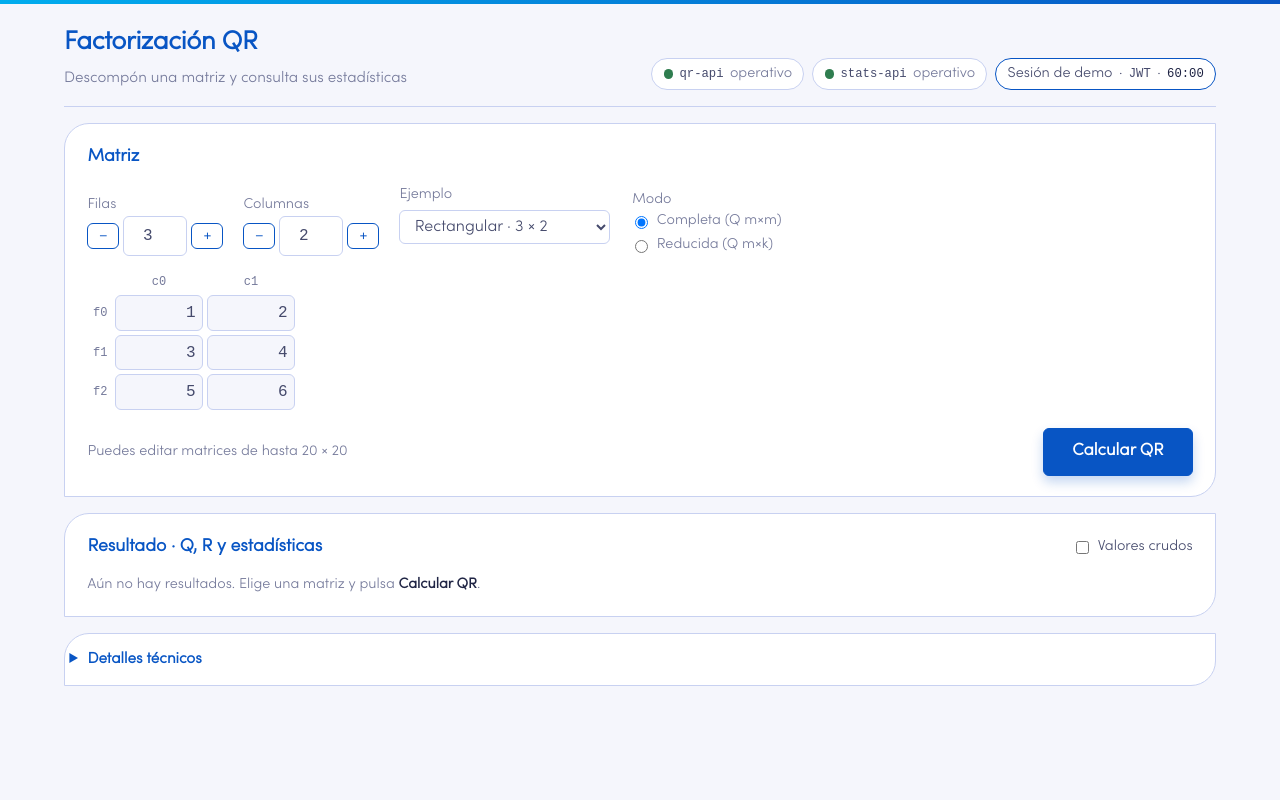
Test: App › gives up after one retry and shows the failure in the results area
Replace the text in the field named "Fila 1, columna 1" with "7". click: (251, 352)
box: top-left (207, 335), bottom-right (295, 370)
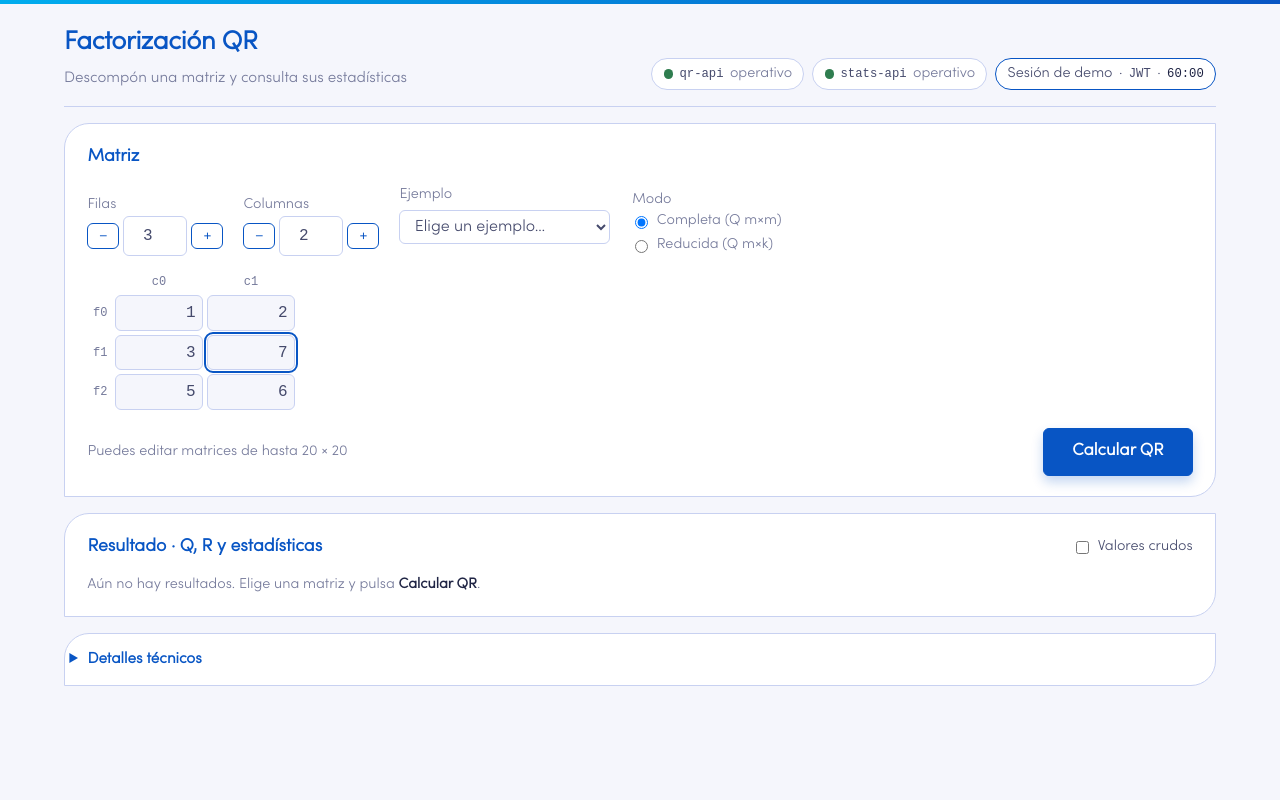
Click the button "Calcular QR". click: (1118, 452)
box: top-left (1043, 428), bottom-right (1193, 476)
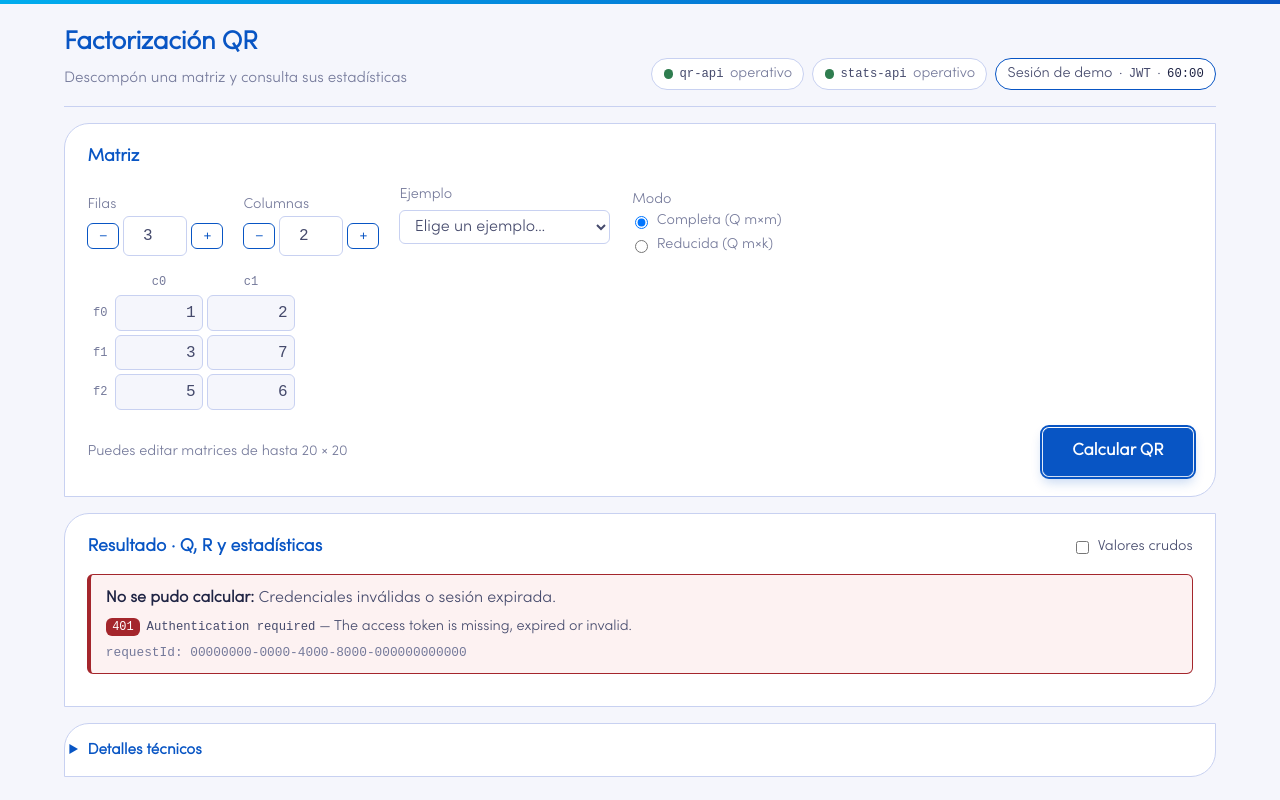
Expected: the field named "Fila 2, columna 1" holds "6", top-left (207, 374), bottom-right (295, 410)
Result: the message that starts with "No se pudo calcular:" shows "Credenciales inválidas o sesión expirada." at top-left (258, 590), bottom-right (556, 606)
